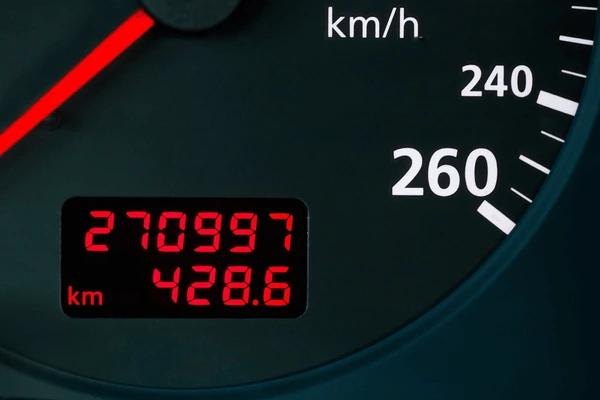-: (253, 298, 259, 306)
0: (156, 210, 187, 253)
2: (84, 209, 115, 253), (186, 266, 216, 306)
4: (152, 267, 181, 305)
6: (263, 266, 291, 306)
7: (123, 211, 151, 252), (267, 213, 293, 253)
8: (222, 265, 252, 306)
9: (192, 210, 222, 254), (228, 212, 258, 254)
X: (81, 290, 103, 306), (67, 285, 80, 307)
odometer: (60, 195, 309, 323)
